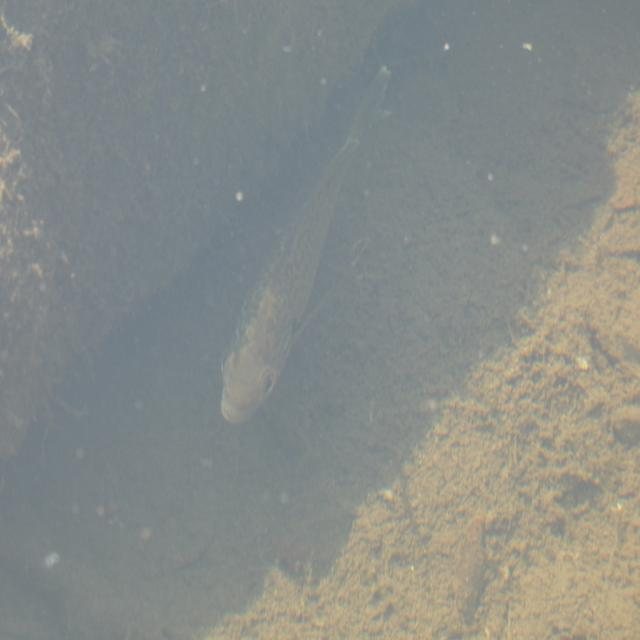Gunes Levregi: (217, 62, 394, 426)
